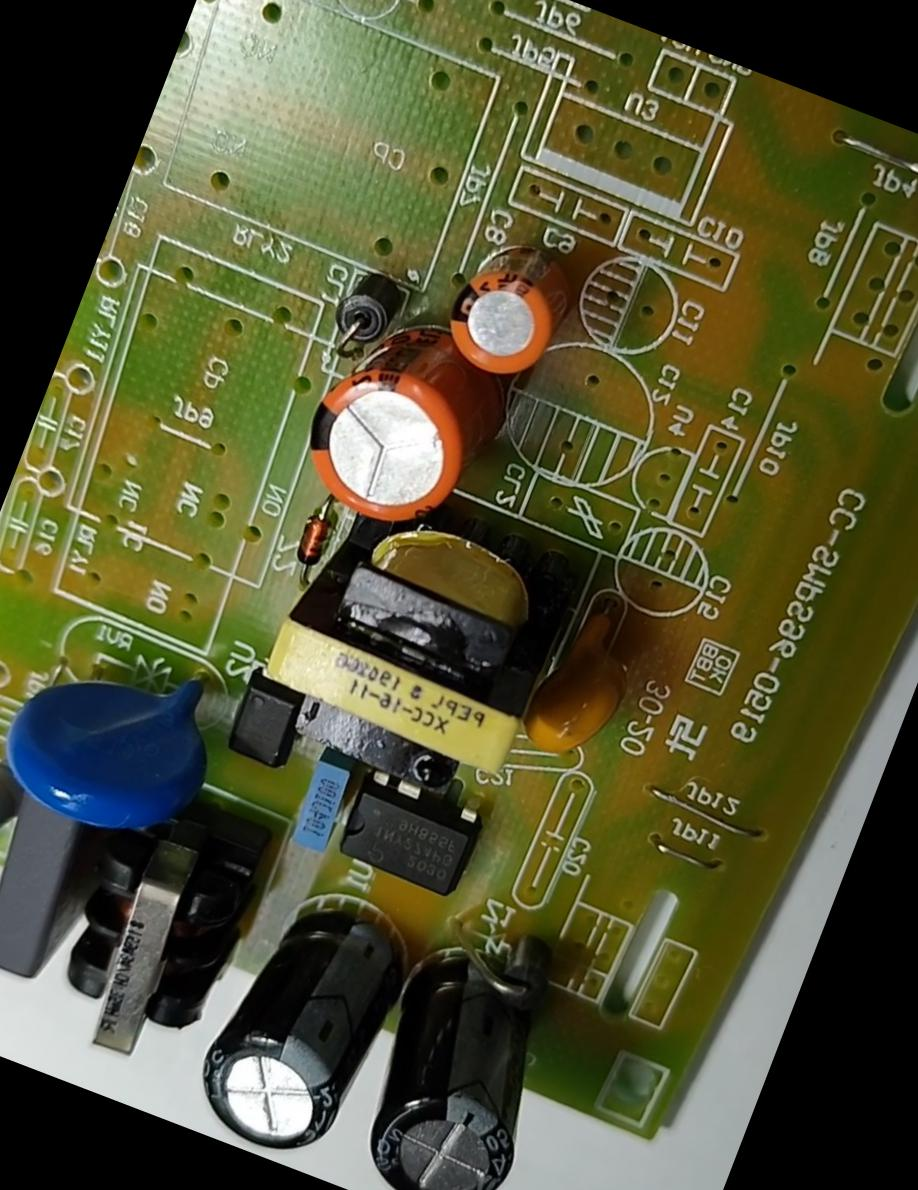Cap1: (276, 285, 514, 549)
Cap2: (428, 213, 592, 401)
Cap3: (176, 866, 435, 1184)
Cap4: (340, 924, 589, 1189)
MOSFET: (320, 755, 492, 909)
Mov: (0, 609, 242, 875)
Resistor: (0, 747, 30, 870)
Transformer: (233, 444, 602, 826), (22, 765, 282, 1086)
